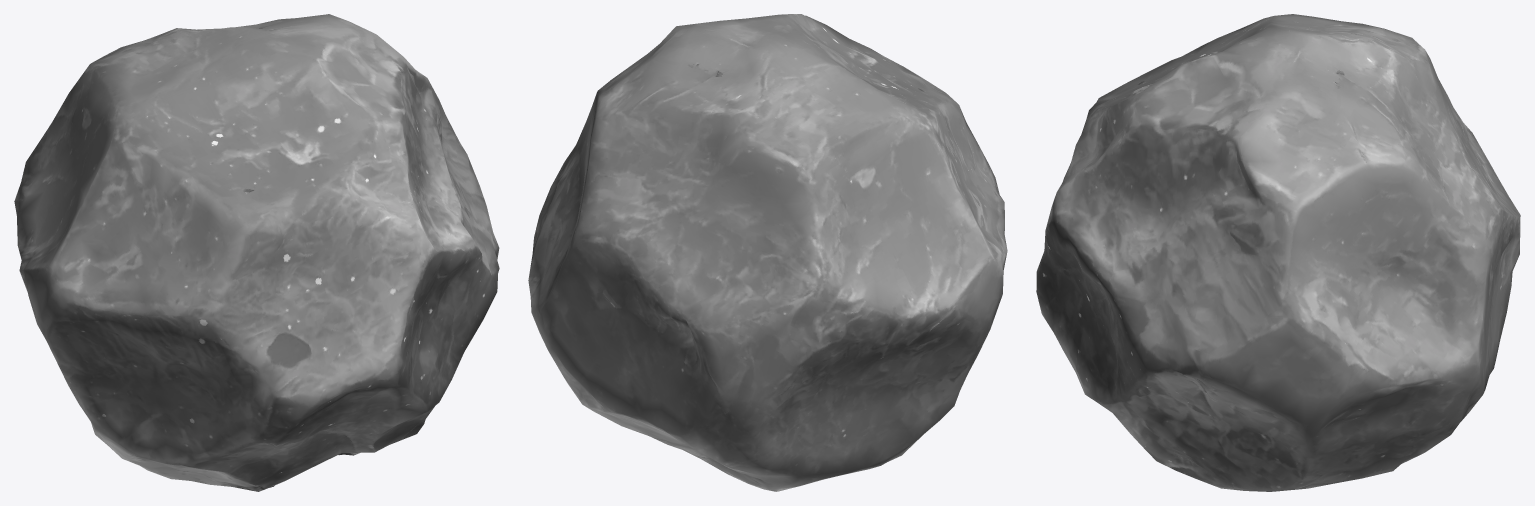
File: rock_04.glb
3 views of the same model, side by side, from view 1: azimuth 30°, elevation 25°; view 2: azimuth 150°, elevation 25°; view 3: azimuth 270°, elevation 25° (orthographic). The views are drawn at different scales.
Parts seen in each view (by area): view 1: rock_04; view 2: rock_04; view 3: rock_04.
Boxes of the visible parts, box(x1,y1,x2,y2) form: rock_04: box(14, 14, 499, 491); rock_04: box(528, 14, 1007, 491); rock_04: box(1036, 14, 1520, 491).
Size of the model in its own units: 1.89 by 1.78 by 1.83.
1 material, 1 textured.
